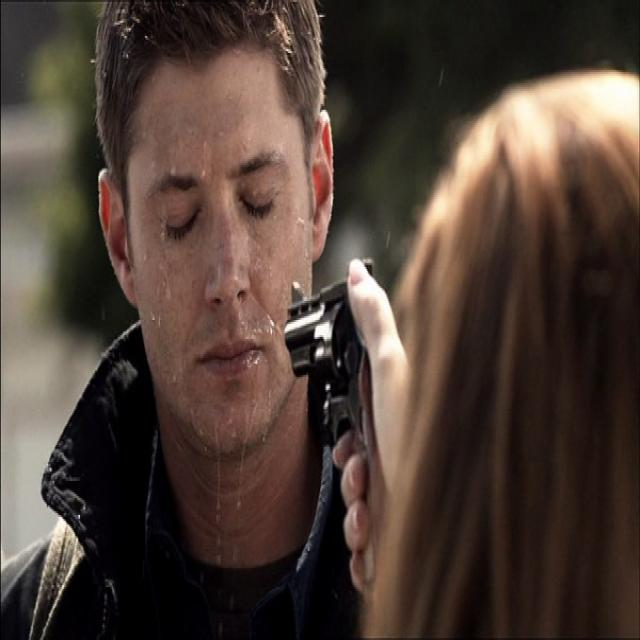weapons: (277, 235, 391, 524)
